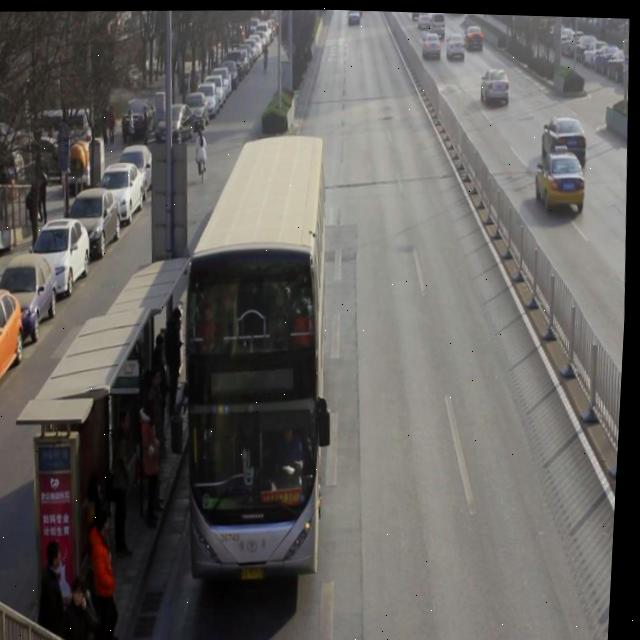car: (533, 141, 589, 215), (540, 113, 589, 170), (478, 65, 512, 107), (444, 32, 466, 61), (463, 22, 484, 52), (420, 31, 441, 59), (346, 8, 359, 27), (417, 11, 431, 28)
truck: (427, 10, 445, 37)
van: (170, 134, 342, 580)
